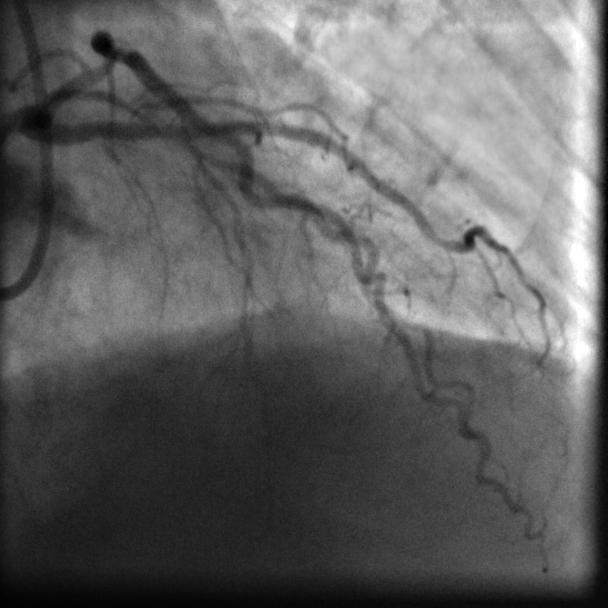Stenosis: (100, 28, 139, 75)
